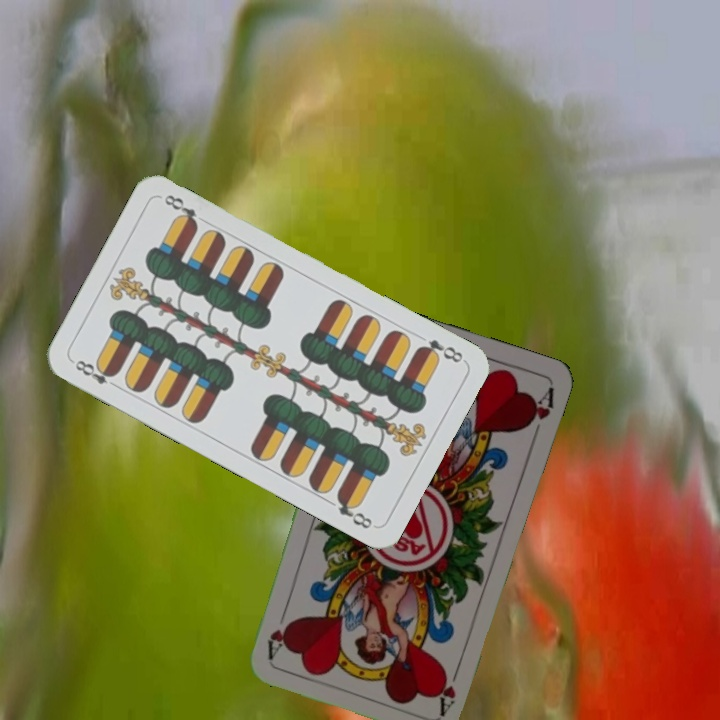E8: (71, 356, 122, 392), (413, 335, 466, 366)
HA: (433, 658, 463, 716)
